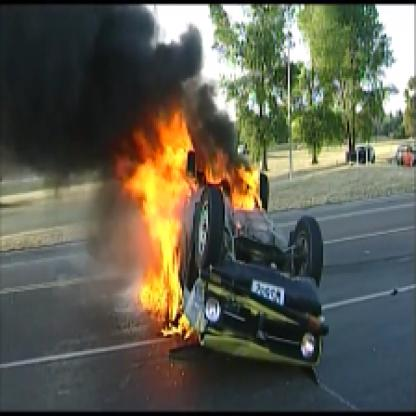Fire: (108, 102, 267, 338)
